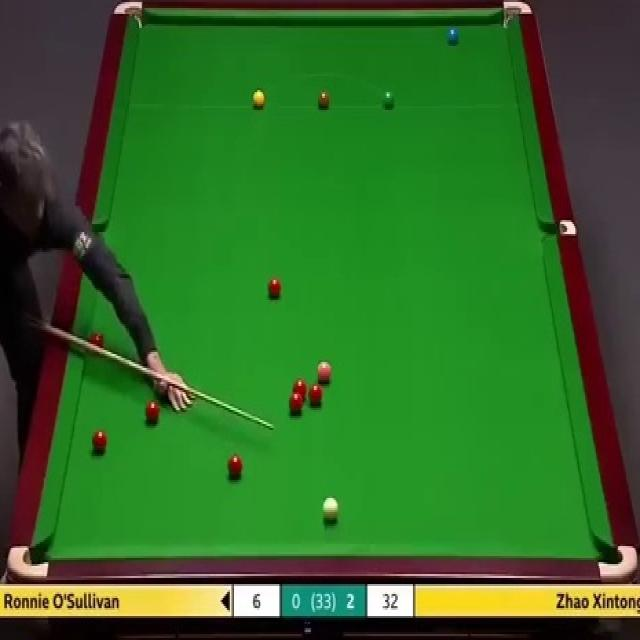pocket: (596, 540, 638, 583), (6, 545, 50, 583), (498, 0, 532, 31), (109, 2, 142, 29), (540, 218, 576, 238)
